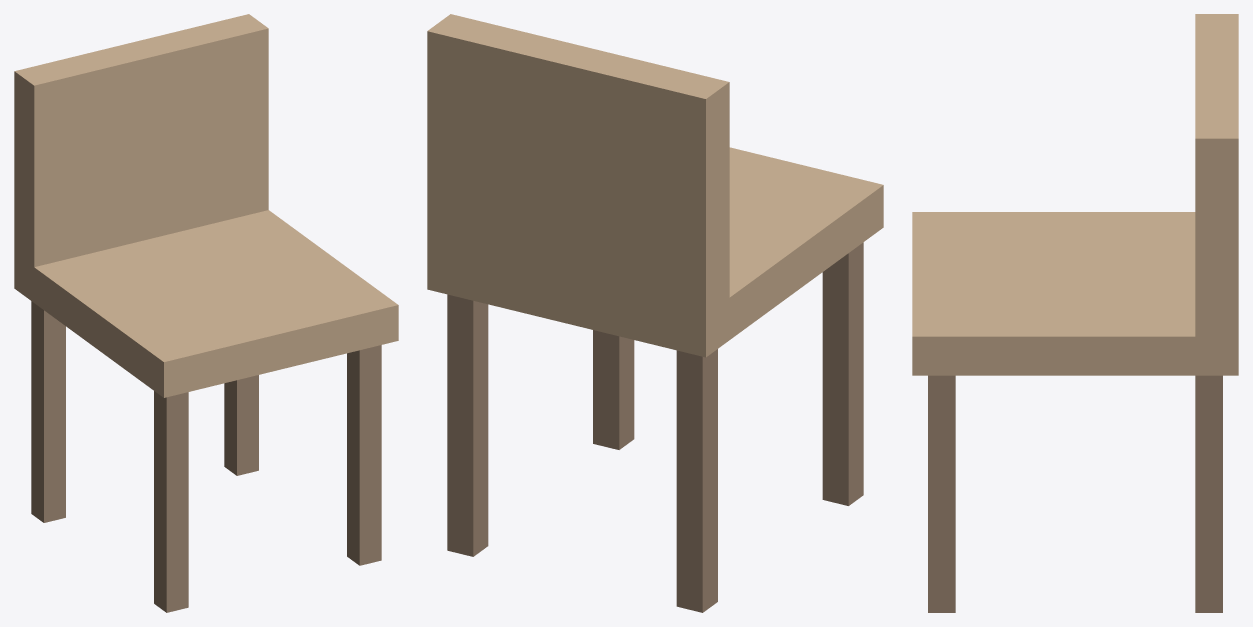
Rendered from dining-chair.glb.
3 views of the same model, side by side, from view 1: azimuth 30°, elevation 25°; view 2: azimuth 150°, elevation 25°; view 3: azimuth 270°, elevation 25° (orthographic). The views are drawn at different scales.
Visible parts, largest first — view 1: Dining Chair; view 2: Dining Chair; view 3: Dining Chair.
Part boxes in pixels (<box>): Dining Chair: <box>14,14,398,612</box>; Dining Chair: <box>427,14,883,612</box>; Dining Chair: <box>912,14,1238,612</box>.
Size of the model in its own units: 0.48 by 0.86 by 0.53.
